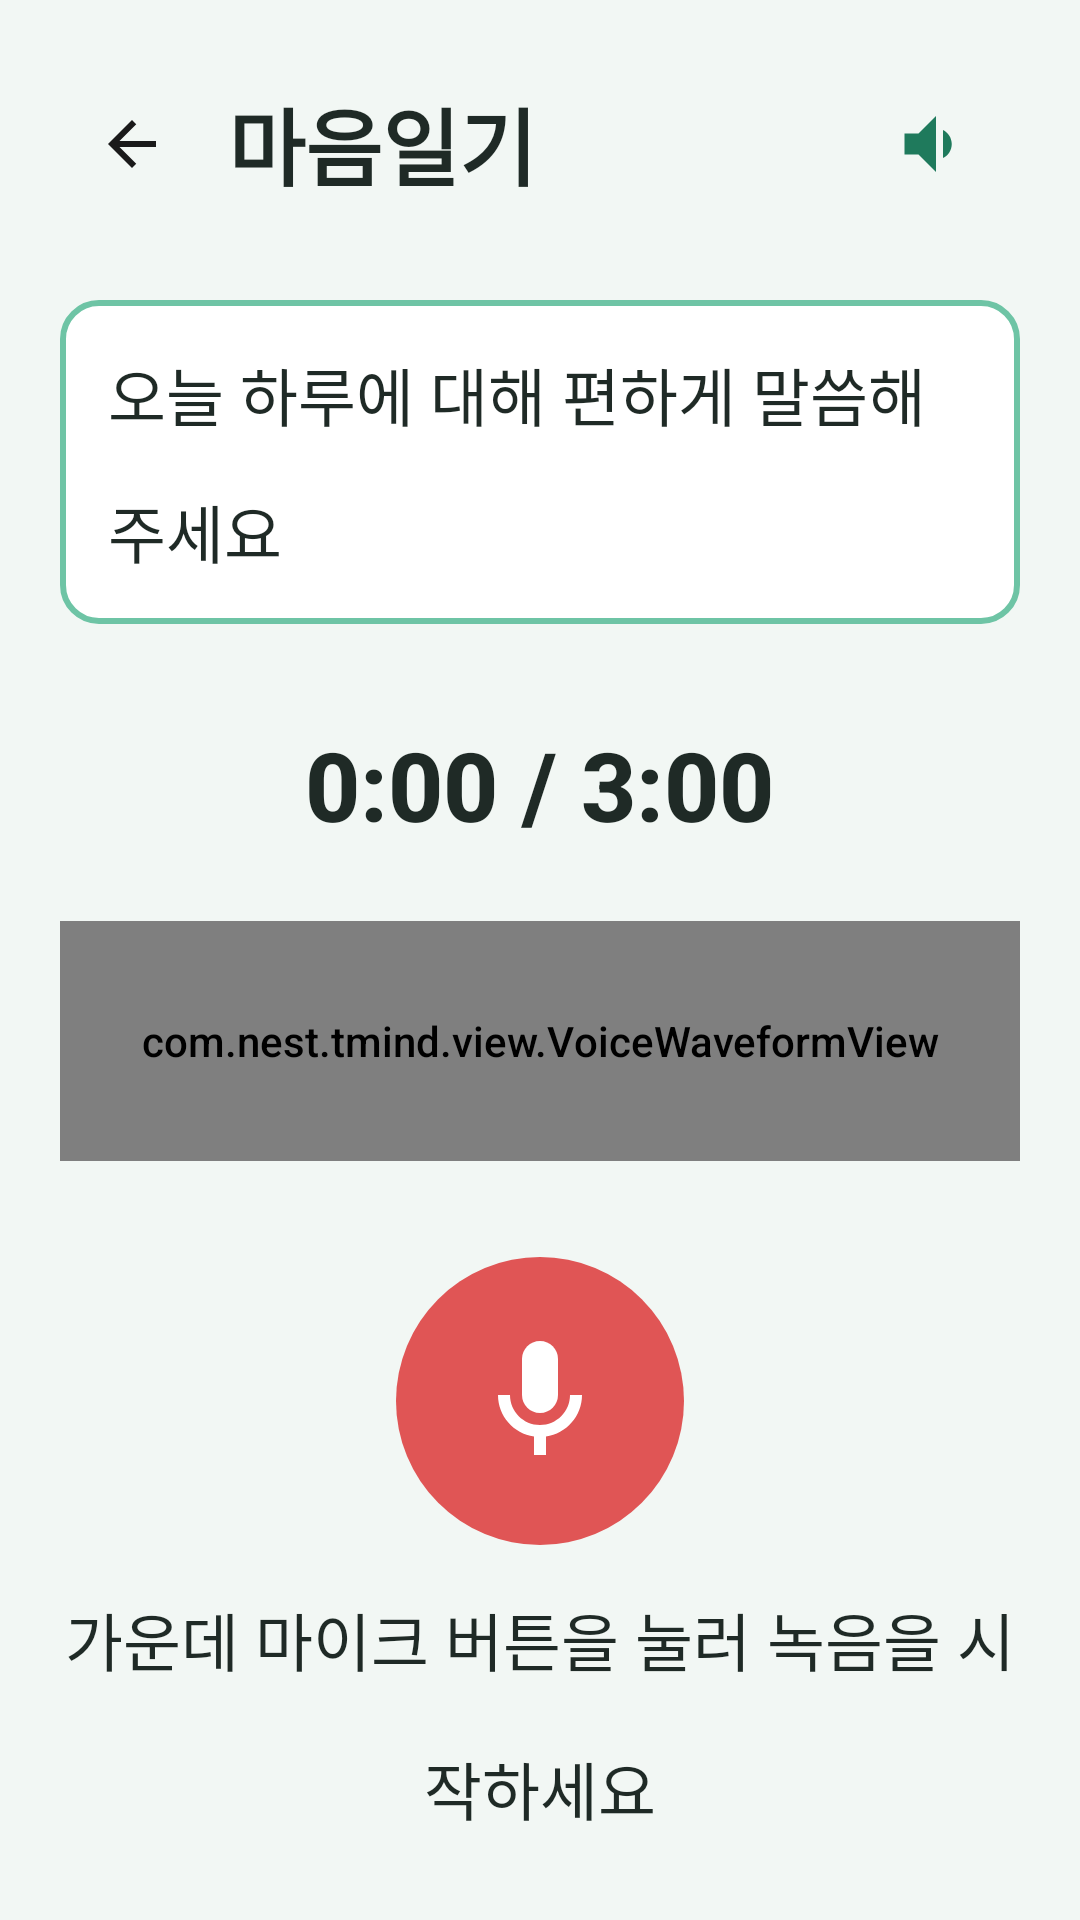

Icons on this 1080*1920 Android screen, each with the point to tap as point (x, y):
back: point (132, 144)
speaker: point (928, 144)
